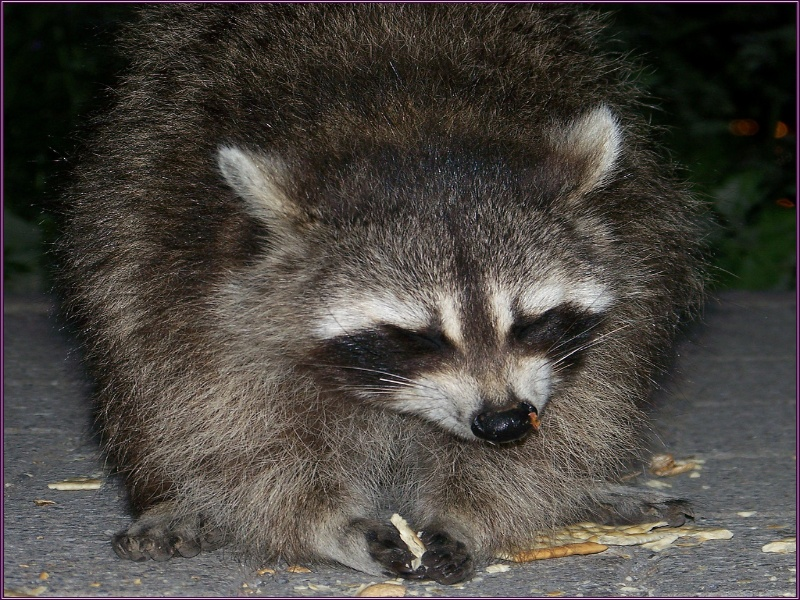raccoon: (75, 7, 720, 583)
